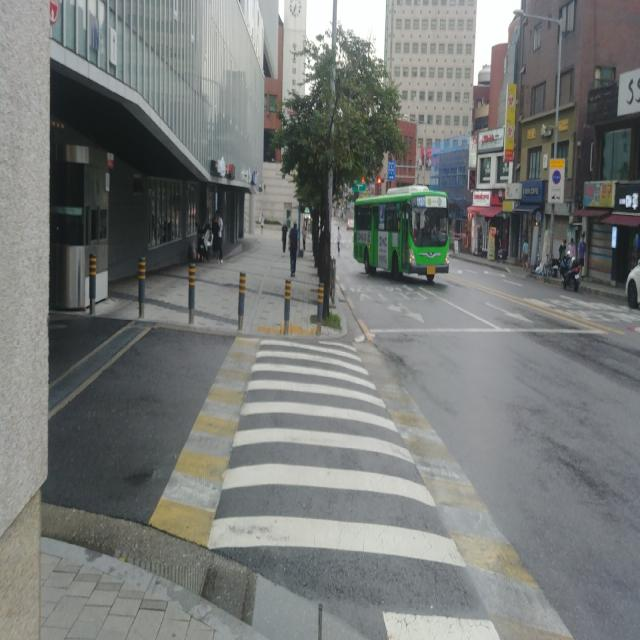횡단보도: (206, 337, 499, 640)
